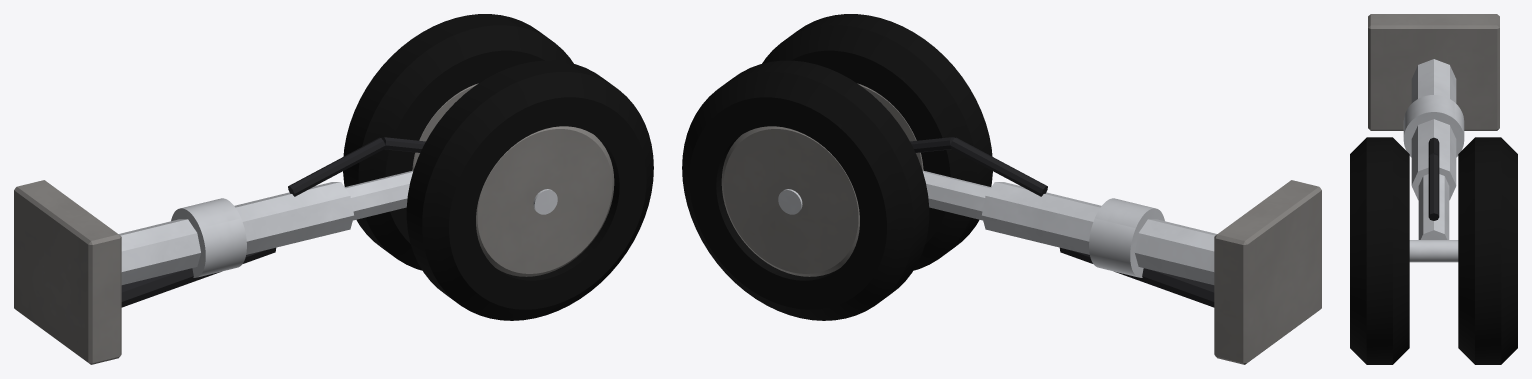
Rendered from ax_gear_02_main_gear_m.glb.
The picture shows the model from 3 angles, left to right: view 1: azimuth 30°, elevation 25°; view 2: azimuth 150°, elevation 25°; view 3: azimuth 270°, elevation 25°; orthographic projection. The views are drawn at different scales.
Parts seen in each view (by area): view 1: wheel_tyres, wheel_hubs, mount_block, gear_leg, gear_links; view 2: wheel_tyres, wheel_hubs, mount_block, gear_leg, gear_links; view 3: wheel_tyres, mount_block, gear_leg, gear_axles, gear_links.
Part boxes in pixels (<box>): wheel_tyres: <box>343,14,653,320</box>; wheel_hubs: <box>412,83,614,276</box>; mount_block: <box>14,180,121,364</box>; gear_leg: <box>119,170,413,284</box>; gear_links: <box>121,137,425,307</box>; wheel_tyres: <box>682,14,992,320</box>; wheel_hubs: <box>721,83,923,276</box>; mount_block: <box>1214,180,1321,364</box>; gear_leg: <box>922,170,1216,284</box>; gear_links: <box>910,137,1214,307</box>; wheel_tyres: <box>1350,137,1517,364</box>; mount_block: <box>1368,14,1499,130</box>; gear_leg: <box>1403,59,1464,239</box>; gear_axles: <box>1409,240,1458,262</box>; gear_links: <box>1428,137,1439,220</box>.
Size of the model in its own units: 2.04 by 0.8397 by 0.6193.
Materials: 4 (2 with a texture image).
